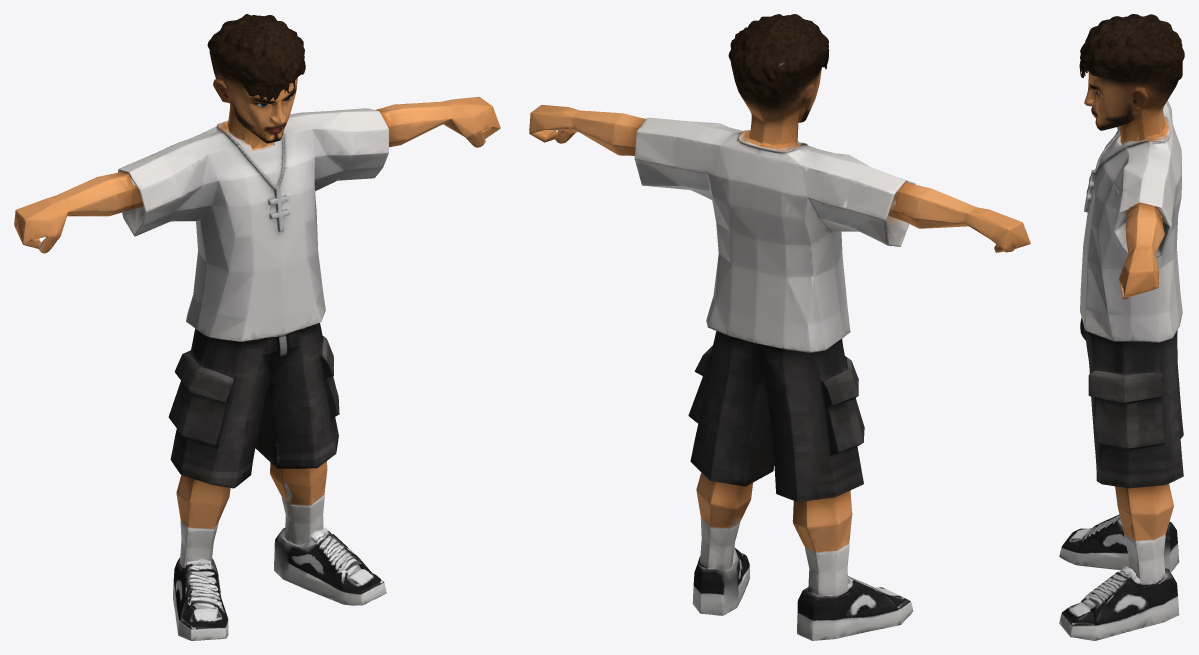
File: Felps.glb
3 views of the same model, side by side, from view 1: azimuth 30°, elevation 25°; view 2: azimuth 150°, elevation 25°; view 3: azimuth 270°, elevation 25° (orthographic). The views are drawn at different scales.
Parts seen in each view (by area): view 1: node_0; view 2: node_0; view 3: node_0.
Boxes of the visible parts, bbox=[...] form: node_0: bbox=[14, 14, 500, 640]; node_0: bbox=[529, 14, 1030, 640]; node_0: bbox=[1059, 14, 1184, 640].
Size of the model in its own units: 0.976 by 1.13 by 0.2234.
1 material, 1 textured.
